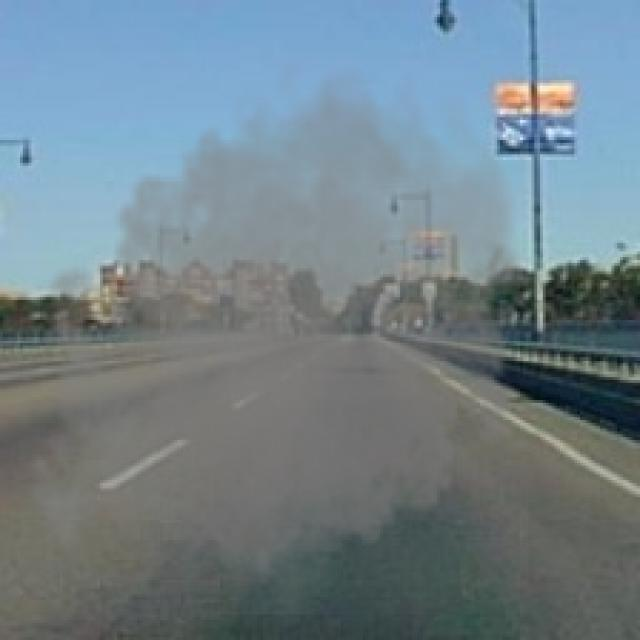smoke: (14, 49, 540, 614)
